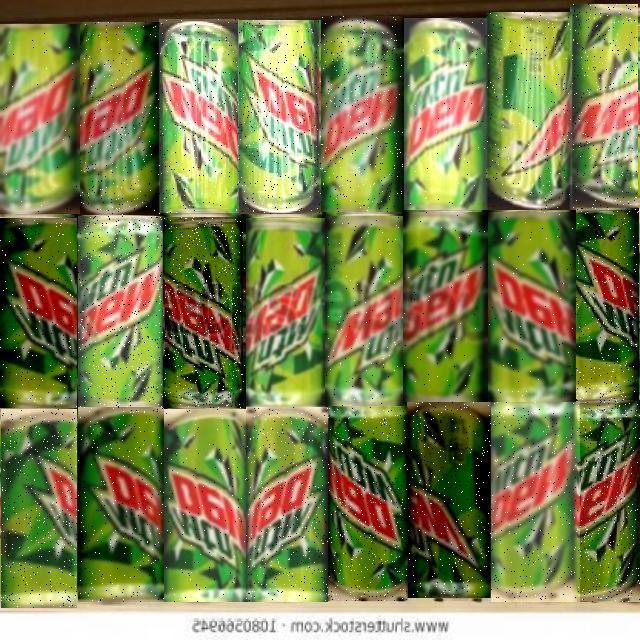Drinks: (492, 402, 580, 604), (486, 12, 572, 210), (78, 408, 164, 604), (407, 402, 493, 598), (489, 212, 577, 402), (78, 216, 164, 407), (238, 20, 322, 214), (403, 212, 488, 402), (322, 16, 404, 212), (246, 407, 328, 602), (404, 18, 487, 210), (326, 407, 408, 601), (165, 409, 247, 602), (164, 217, 246, 408), (159, 19, 239, 213), (80, 22, 160, 215), (0, 24, 80, 214), (1, 409, 77, 608), (246, 218, 325, 408), (325, 216, 403, 406), (0, 218, 77, 408), (571, 5, 639, 211), (578, 401, 640, 603), (576, 208, 639, 400)
